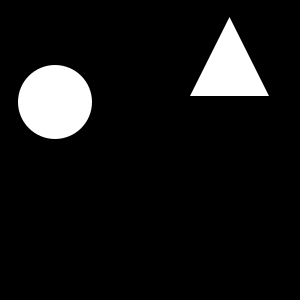rectangle: (18, 65, 92, 139)
triangle: (190, 17, 269, 96)
